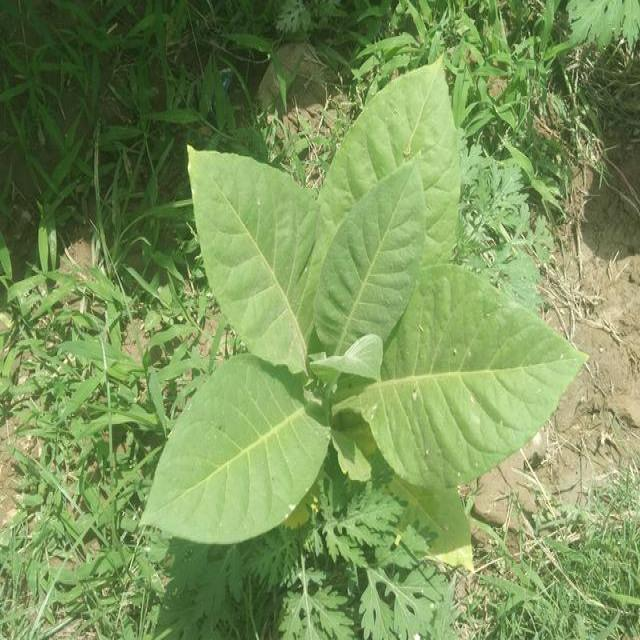crop: (129, 66, 582, 544)
